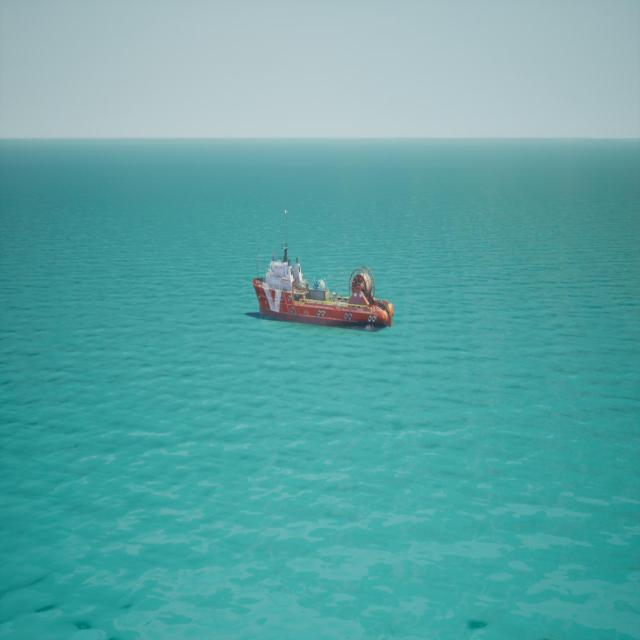tug boat: (247, 213, 397, 335)
